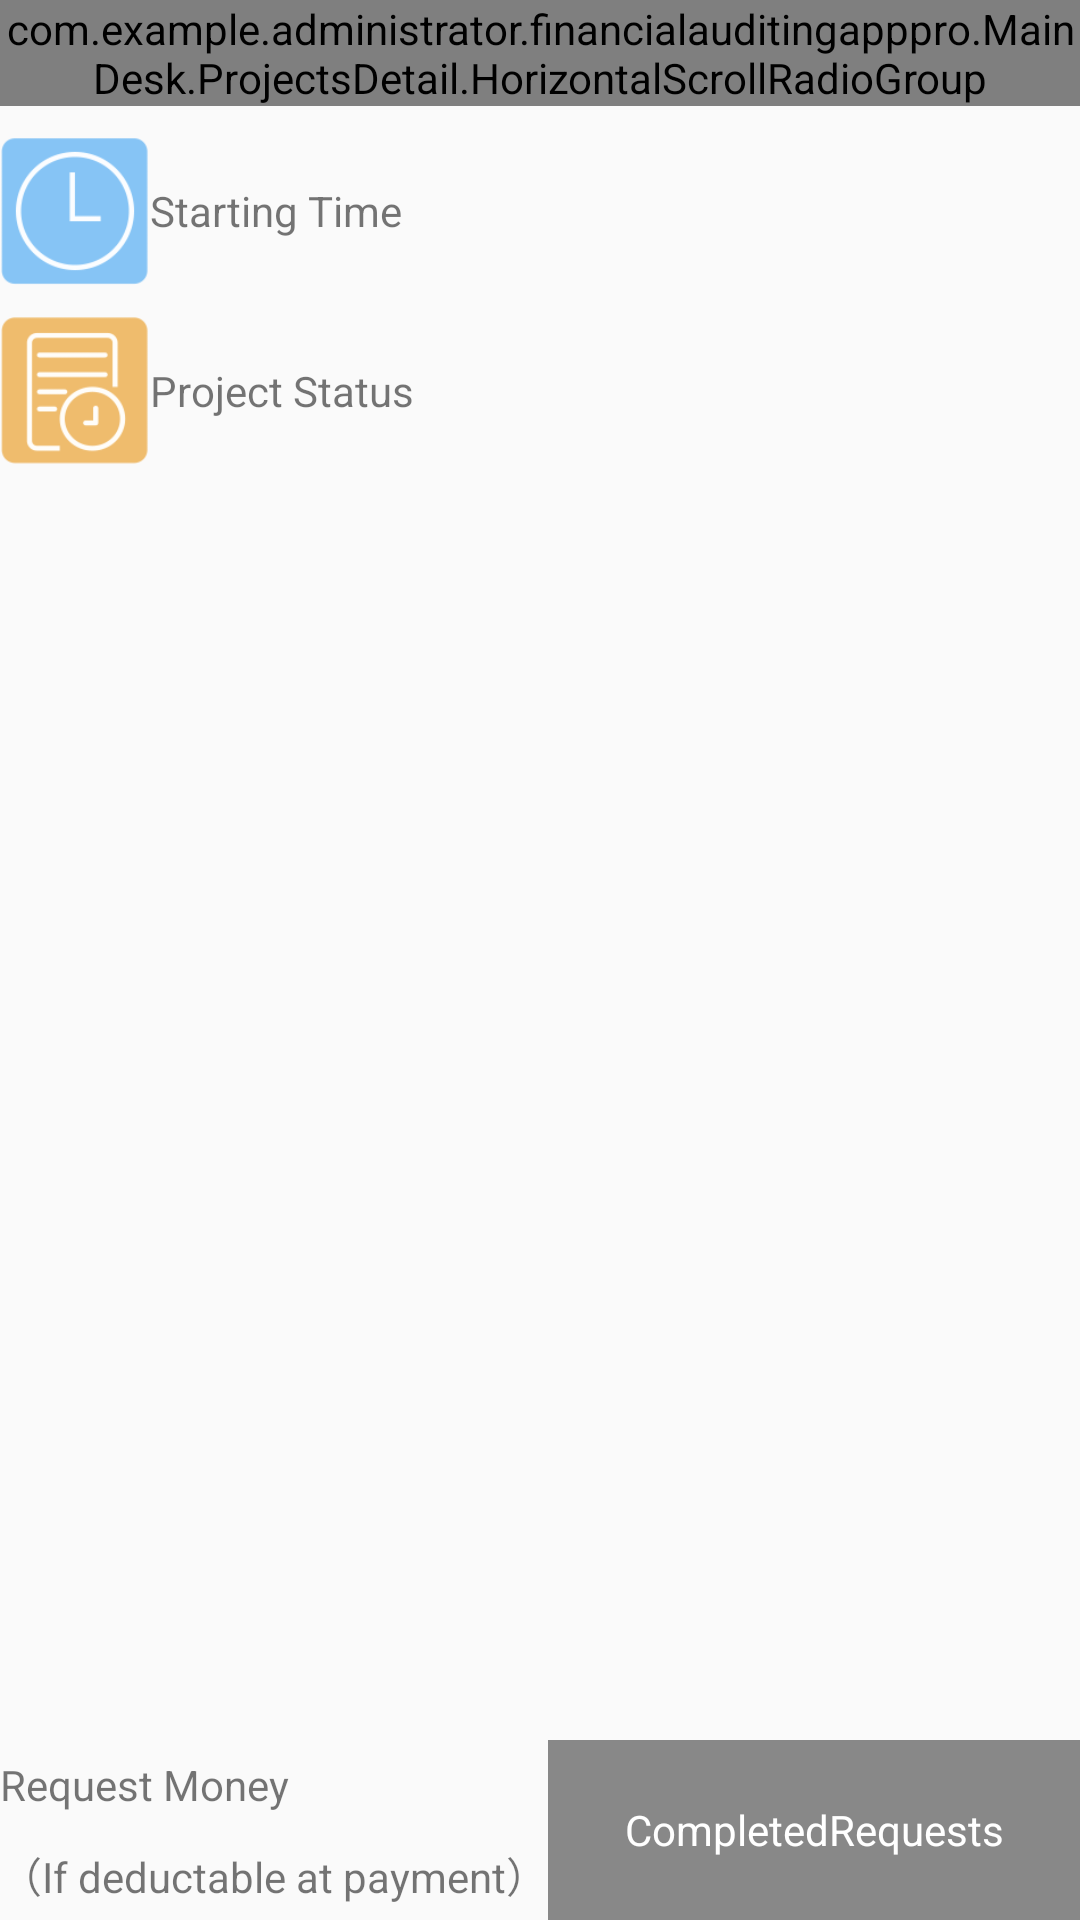

Screen size 1080 x 1920. Icon name, then its box in pixels as [left=x1, top=y1, right=x2, bottom=y2]:
project state: [left=1, top=317, right=148, bottom=464]
starttime: [left=1, top=138, right=148, bottom=284]
